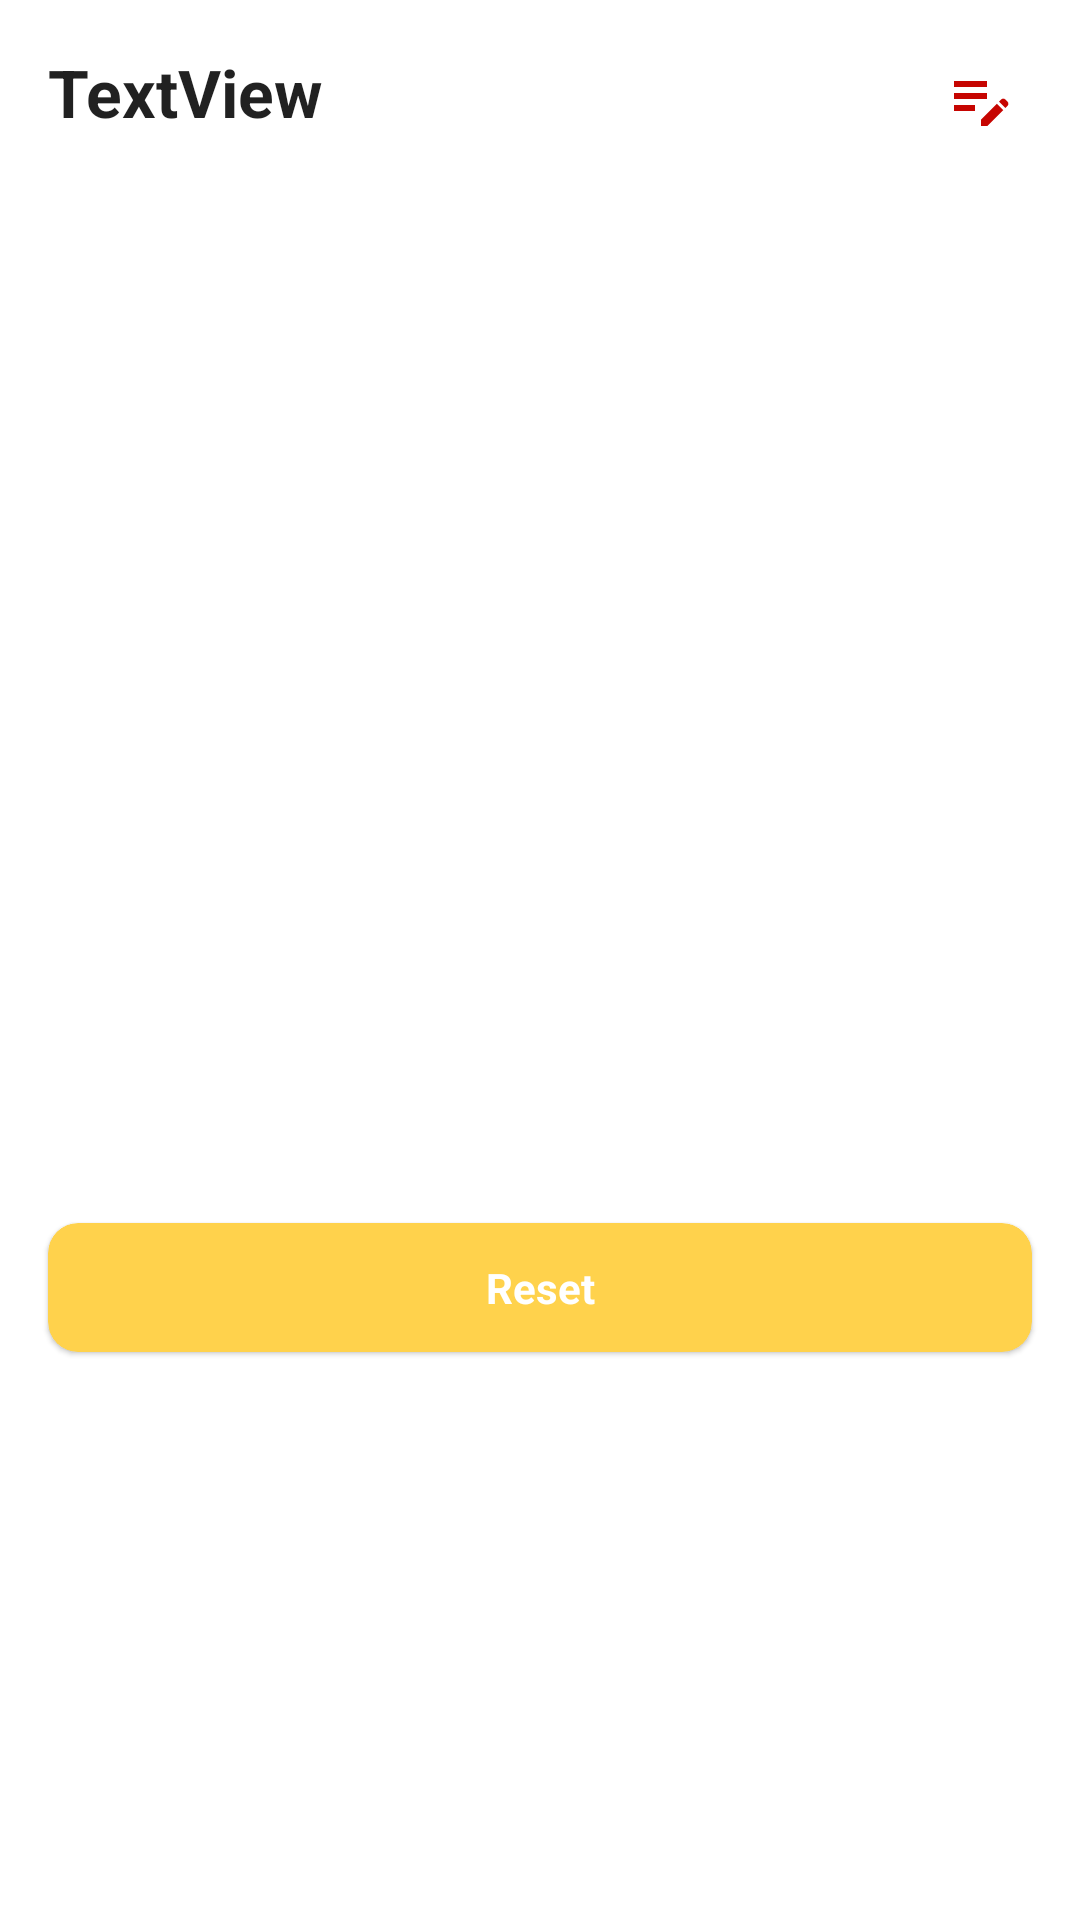

Named icons in this screenshot (1080w x 1920h) and their centers, [x,y]:
edit check list: [981,103]
